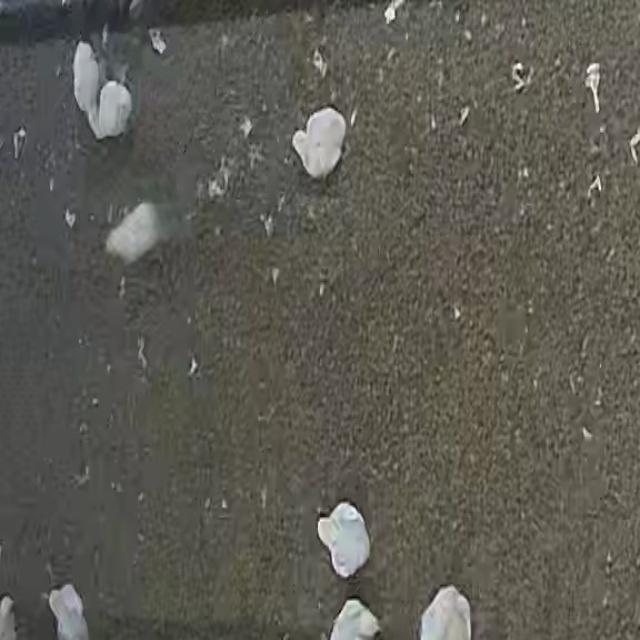chicken: (288, 104, 347, 184), (316, 500, 370, 578), (106, 201, 161, 264), (419, 581, 473, 640), (73, 40, 104, 141), (45, 588, 96, 640), (329, 595, 384, 640), (101, 80, 131, 143), (0, 592, 21, 640)
